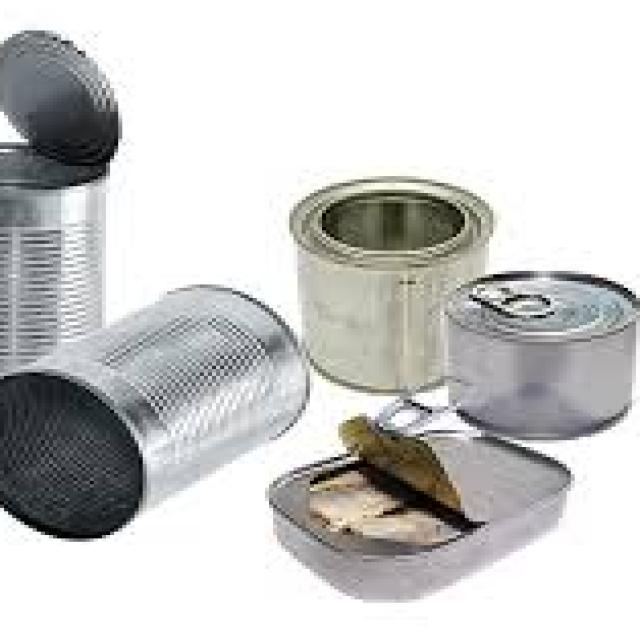organic: (6, 270, 297, 561), (241, 419, 586, 611), (265, 191, 517, 409), (6, 25, 143, 367), (405, 270, 632, 458)
